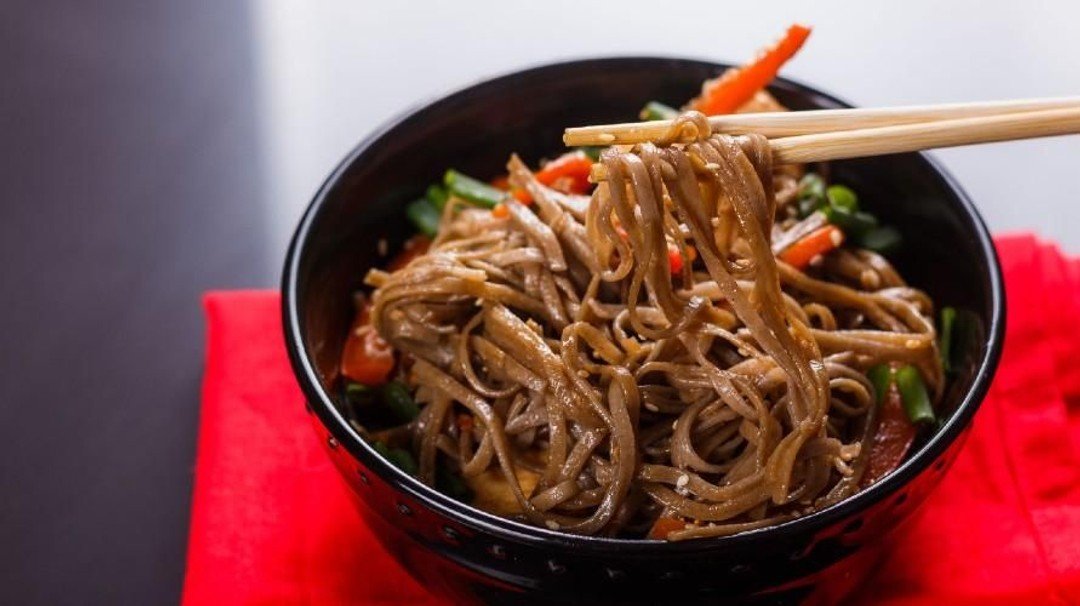Mie: (383, 113, 910, 595)
